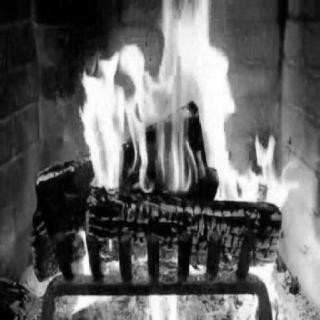Fire: (23, 6, 313, 310)
